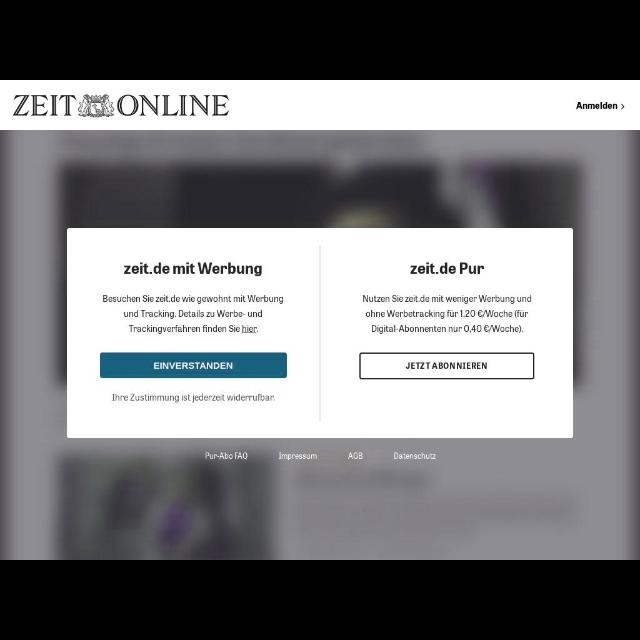icon: (619, 102, 625, 110)
image: (13, 94, 228, 120)
text: (102, 294, 284, 334), (362, 293, 532, 333), (124, 264, 262, 276), (112, 392, 276, 402), (408, 264, 486, 276), (405, 362, 487, 372), (154, 362, 232, 371), (574, 100, 618, 112), (392, 450, 436, 462), (278, 451, 316, 464), (204, 452, 248, 460), (346, 452, 364, 461)
textbutton: (100, 351, 286, 377), (360, 353, 534, 379)
toolbar: (1, 81, 639, 130)
